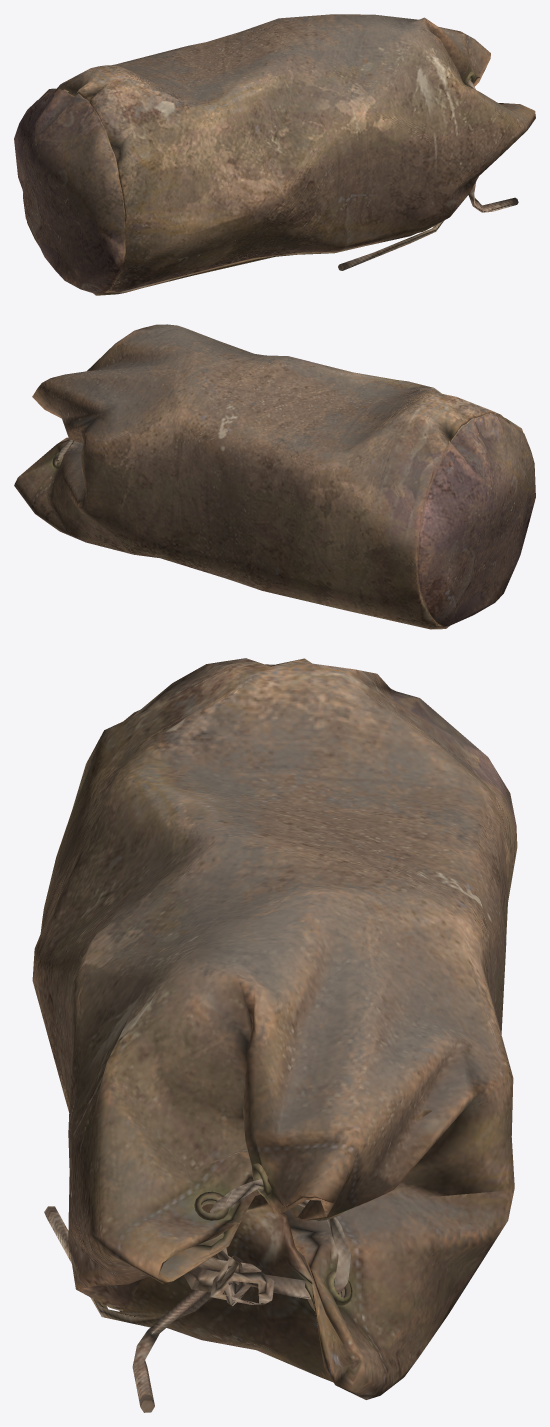
Rendered from interactive_container_bag_01.fbx.
3 views of the same model, one above another, from view 1: azimuth 30°, elevation 25°; view 2: azimuth 150°, elevation 25°; view 3: azimuth 270°, elevation 25° (orthographic). The views are drawn at different scales.
Visible parts, largest first — view 1: interactive_container_bag_01; view 2: interactive_container_bag_01; view 3: interactive_container_bag_01.
Part boxes in pixels (bbox=[...]): interactive_container_bag_01: bbox=[14, 14, 535, 295]; interactive_container_bag_01: bbox=[14, 324, 535, 629]; interactive_container_bag_01: bbox=[32, 658, 517, 1412].
Size of the model in its own units: 116 by 46.4 by 52.53.
